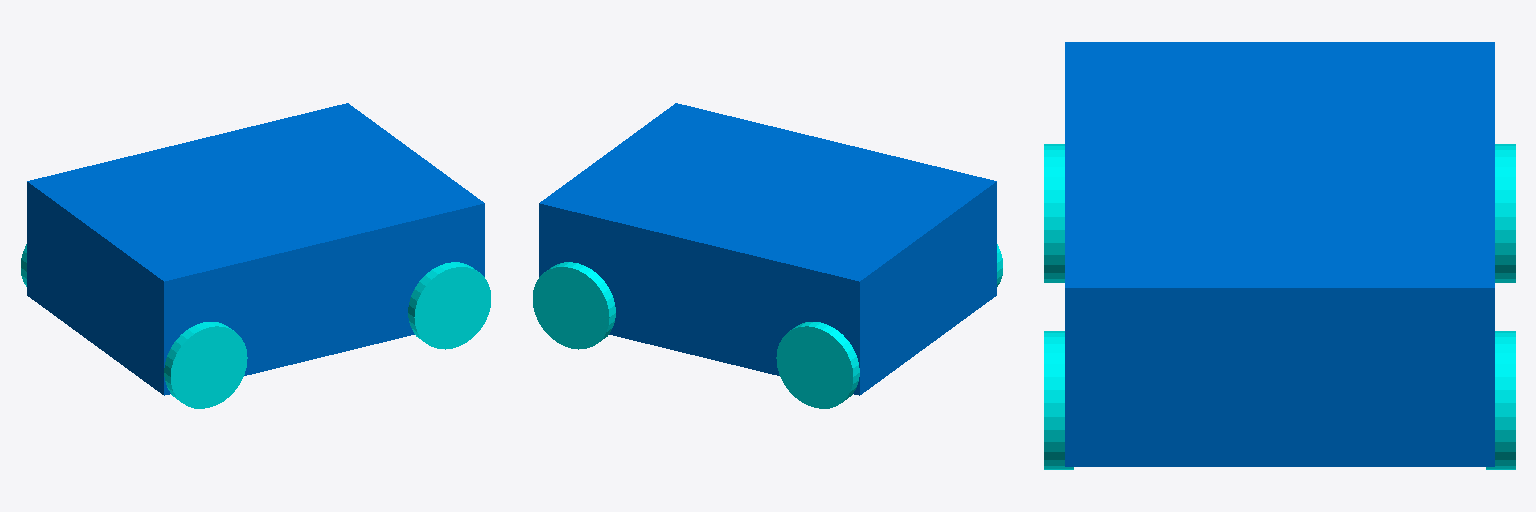
URDF robot description (mbot):
<?xml version="1.0" ?>
<robot name="mbot">

    <link name="base_link">
        <visual>
            <origin xyz=" 0 0 0" rpy="0 0 0" />
            <geometry>
                <box size="0.5 0.37 0.17" />
            </geometry>
            <material name="blue">
                <color rgba="0 0.5 0.9 1"/>
            </material>
        </visual>
    </link>

    <joint name="left_front_wheel_joint" type="continuous">
        <origin xyz="0.19 0.19 -0.05" rpy="0 0 0"/>
        <parent link="base_link"/>
        <child link="left_front_wheel_link"/>
        <axis xyz="0 1 0"/>
    </joint>

    <link name="left_front_wheel_link">
        <visual>
            <origin xyz="0 0 0" rpy="1.5707 0 0" />
            <geometry>
                <cylinder radius="0.06" length = "0.025"/>
            </geometry>
            <material name="white">
                <color rgba="0 1 1 0.9"/>
            </material>
        </visual>
    </link>

    <joint name="right_front_wheel_joint" type="continuous">
        <origin xyz="0.19 -0.19 -0.05" rpy="0 0 0"/>
        <parent link="base_link"/>
        <child link="right_front_wheel_link"/>
        <axis xyz="0 1 0"/>
    </joint>

    <link name="right_front_wheel_link">
        <visual>
            <origin xyz="0 0 0" rpy="1.5707 0 0" />
            <geometry>
                <cylinder radius="0.06" length = "0.025"/>
            </geometry>
            <material name="white">
                <color rgba="0 1 1 0.9"/>
            </material>
        </visual>
    </link>

    <joint name="left_back_wheel_joint" type="continuous">
        <origin xyz="-0.19 0.19 -0.05" rpy="0 0 0"/>
        <parent link="base_link"/>
        <child link="left_back_wheel_link"/>
        <axis xyz="0 1 0"/>
    </joint>

    <link name="left_back_wheel_link">
        <visual>
            <origin xyz="0 0 0" rpy="1.5707 0 0" />
            <geometry>
                <cylinder radius="0.06" length = "0.025"/>
            </geometry>
            <material name="white">
                <color rgba="0 1 1 0.9"/>
            </material>
        </visual>
    </link>

    <joint name="right_back_wheel_joint" type="continuous">
        <origin xyz="-0.19 -0.19 -0.05" rpy="0 0 0"/>
        <parent link="base_link"/>
        <child link="right_back_wheel_link"/>
        <axis xyz="0 1 0"/>
    </joint>

    <link name="right_back_wheel_link">
        <visual>
            <origin xyz="0 0 0" rpy="1.5707 0 0" />
            <geometry>
                <cylinder radius="0.06" length = "0.025"/>
            </geometry>
            <material name="white">
                <color rgba="0 1 1 0.9"/>
            </material>
        </visual>
    </link>

    <joint name="front_caster_joint" type="continuous">
        <origin xyz="0.18 0 -0.095" rpy="0 0 0"/>
        <parent link="base_link"/>
        <child link="front_caster_link"/>
        <axis xyz="0 1 0"/>
    </joint>

    <link name="front_caster_link">
        <visual>
            <origin xyz="0 0 0" rpy="0 0 0"/>
            <geometry>
                <sphere radius="0.015" />
            </geometry>
            <material name="black">
                <color rgba="0 0 0 0.95"/>
            </material>
        </visual>
    </link>

    <joint name="back_caster_joint" type="continuous">
        <origin xyz="-0.18 0 -0.095" rpy="0 0 0"/>
        <parent link="base_link"/>
        <child link="back_caster_link"/>
        <axis xyz="0 1 0"/>
    </joint>

    <link name="back_caster_link">
        <visual>
            <origin xyz="0 0 0" rpy="0 0 0"/>
            <geometry>
                <sphere radius="0.015" />
            </geometry>
            <material name="black">
                <color rgba="0 0 0 0.95"/>
            </material>
        </visual>
    </link>

</robot>

--- What the picture shows (computed from the rendered views, not written in the file) ---
The picture shows the robot from 3 angles, left to right: view 1: azimuth 30°, elevation 25°; view 2: azimuth 150°, elevation 25°; view 3: azimuth 270°, elevation 25°; orthographic projection.
Robot: mbot — 7 links, 6 joints (6 continuous); root link base_link; default pose: every joint at zero.
Visible links, largest first — view 1: base_link, right_front_wheel_link, right_back_wheel_link; view 2: base_link, left_front_wheel_link, left_back_wheel_link; view 3: base_link, left_front_wheel_link, right_front_wheel_link, left_back_wheel_link, right_back_wheel_link.
Boxes of the visible links, x1,y1,x2,y2 form: base_link: (27, 103, 484, 395); right_front_wheel_link: (408, 262, 490, 349); right_back_wheel_link: (164, 322, 247, 408); base_link: (539, 103, 996, 395); left_front_wheel_link: (533, 262, 615, 349); left_back_wheel_link: (776, 322, 859, 408); base_link: (1065, 42, 1494, 466); left_front_wheel_link: (1486, 331, 1515, 469); right_front_wheel_link: (1044, 331, 1073, 469); left_back_wheel_link: (1495, 144, 1515, 282); right_back_wheel_link: (1044, 144, 1064, 282).
Size in the robot's own frame: 0.5 by 0.405 by 0.195 metres.
Geometry: primitives only (box / cylinder / sphere), no mesh files.
